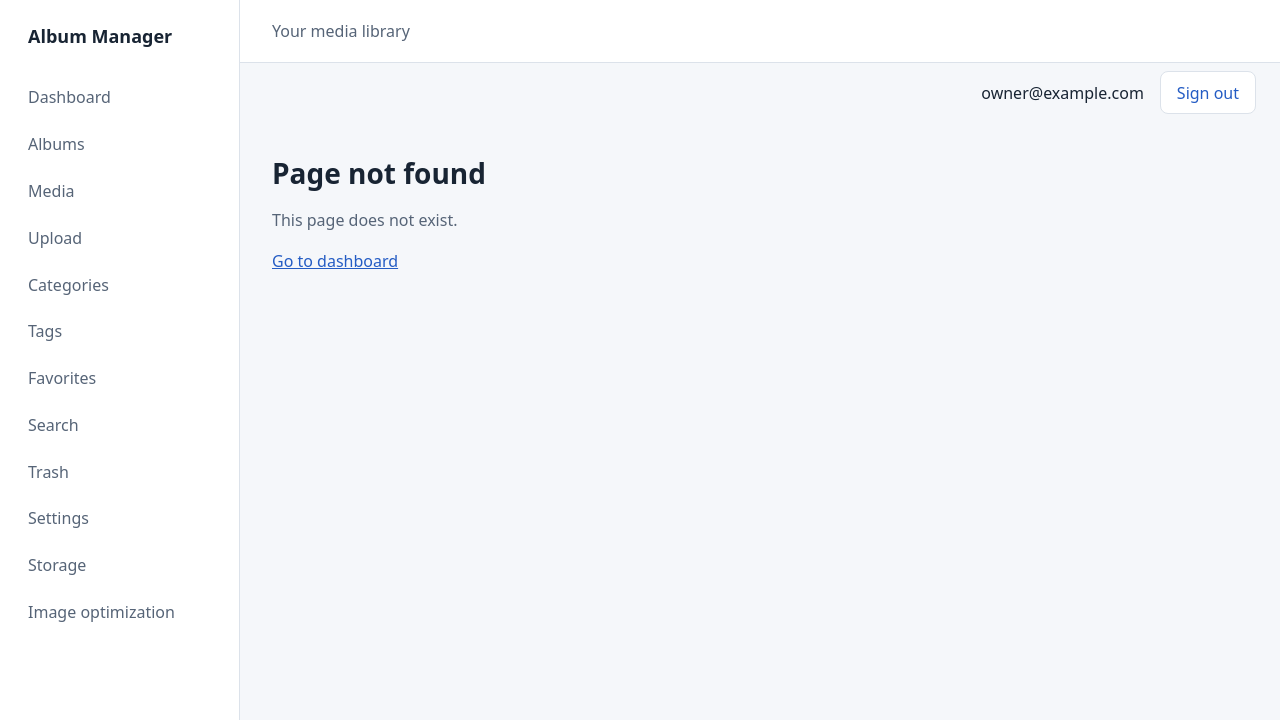
Test: application routes › shows a recoverable fallback for unknown URLs
Check: the navigation bar named "Main navigation" is shown, box x1=28 y1=86 x2=175 y2=623
Check: the heading "Page not found" is shown, box x1=272 y1=154 x2=486 y2=192
Click the link "Go to dashboard".
click(335, 261)  # box x1=272 y1=250 x2=398 y2=272
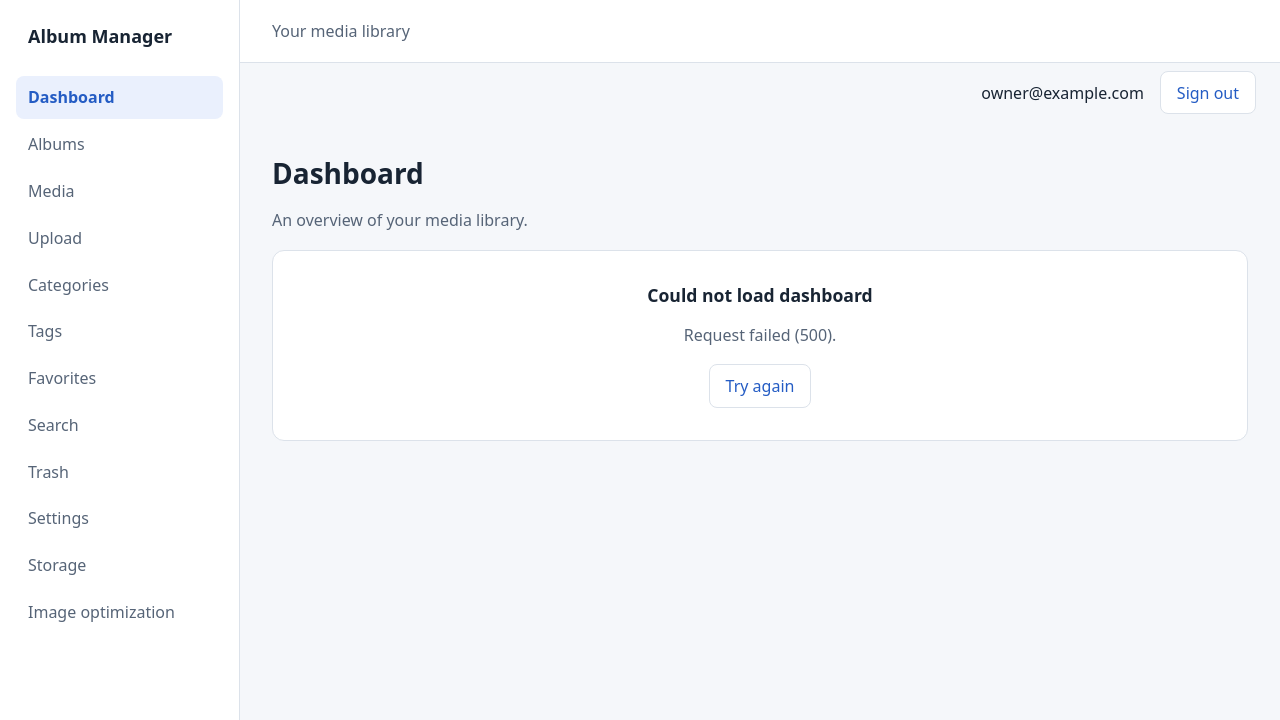
Check: the heading "Dashboard" is shown, box x1=272 y1=154 x2=424 y2=192
